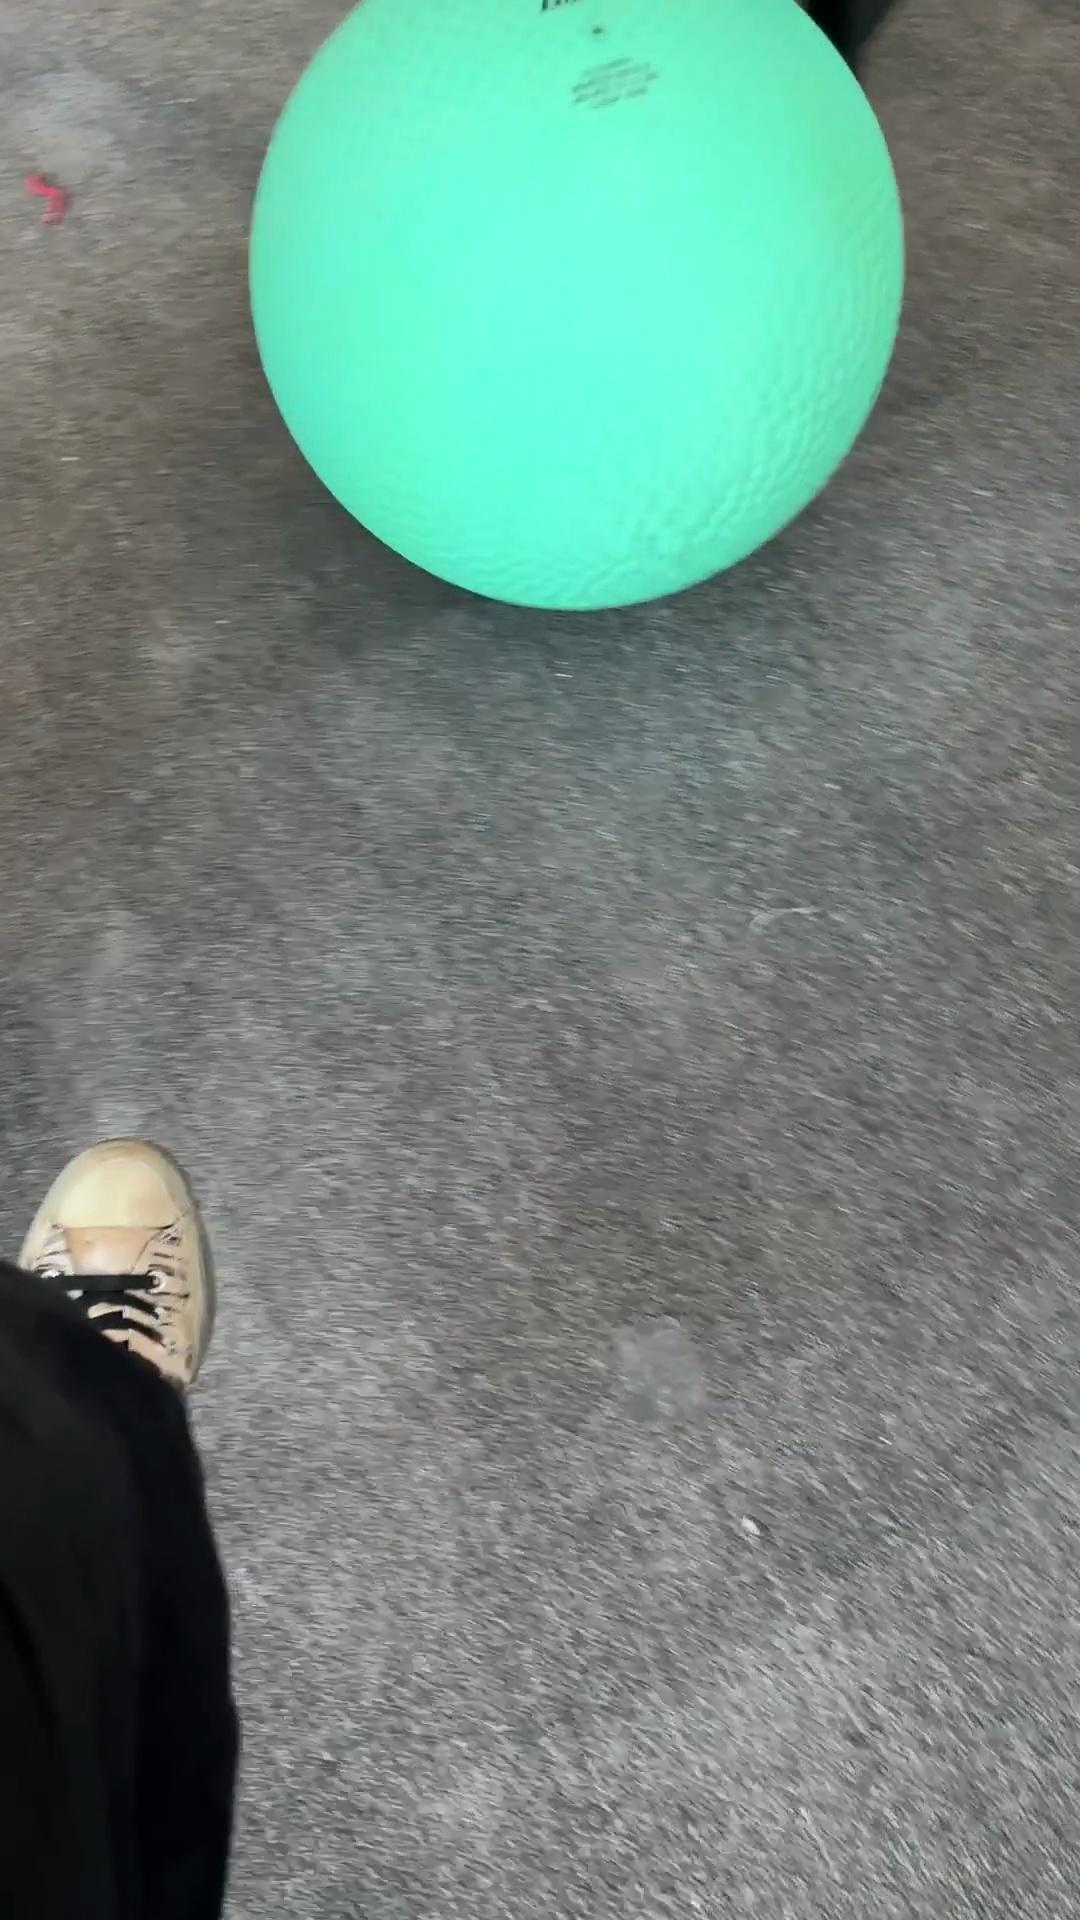ALGAE: (245, 1, 907, 613)
